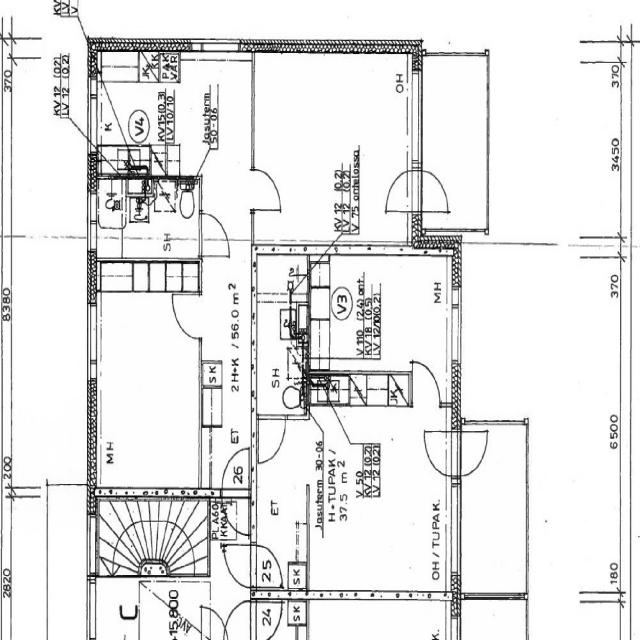door: (383, 168, 423, 212), (412, 168, 451, 212), (220, 488, 248, 541), (220, 445, 248, 498), (170, 295, 202, 339), (250, 169, 282, 212), (199, 212, 230, 256)
